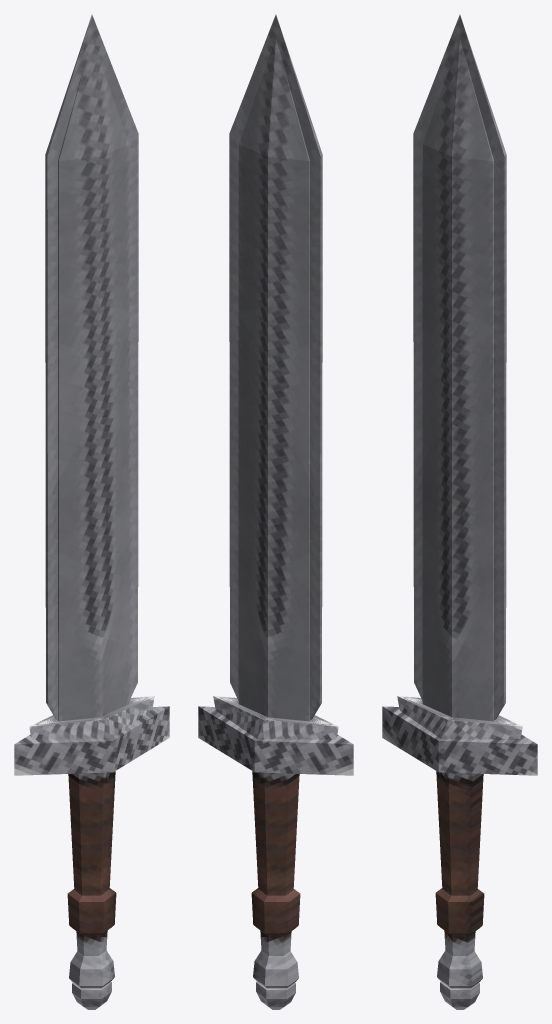
The model's file is swordFin.fbx.
3 views of the same model, side by side, from view 1: azimuth 30°, elevation 25°; view 2: azimuth 150°, elevation 25°; view 3: azimuth 330°, elevation 25° (orthographic).
Parts seen in each view (by area): view 1: Cylinder; view 2: Cylinder; view 3: Cylinder.
Boxes of the visible parts, x1,y1,x2,y2 form: Cylinder: (14,14,169,1009); Cylinder: (198,14,353,1009); Cylinder: (382,14,537,1009).
Size of the model in its own units: 116 by 709 by 54.96.
Materials: 1 (1 with a texture image).
